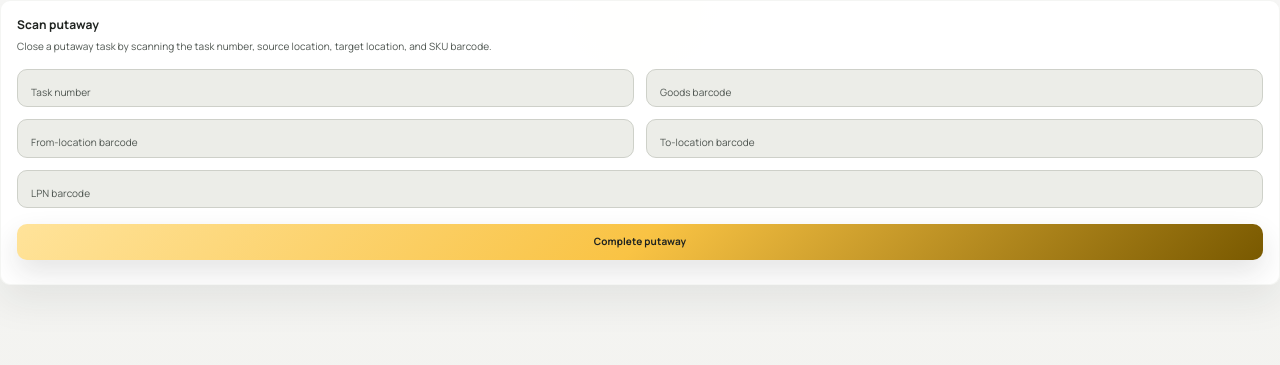
Test: posts scan putaway payloads and shows a success message
Type "PT-3001" into the field labelled "Task number" at point(326, 88), box [17,69,634,108]
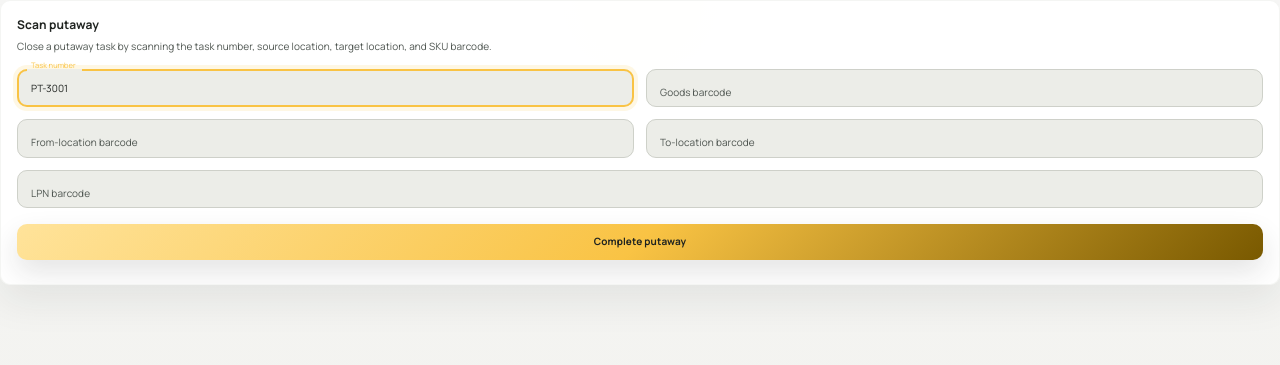
Type "SKU-3001" into the field labelled "Goods barcode" at point(954, 88), box [646,69,1263,108]
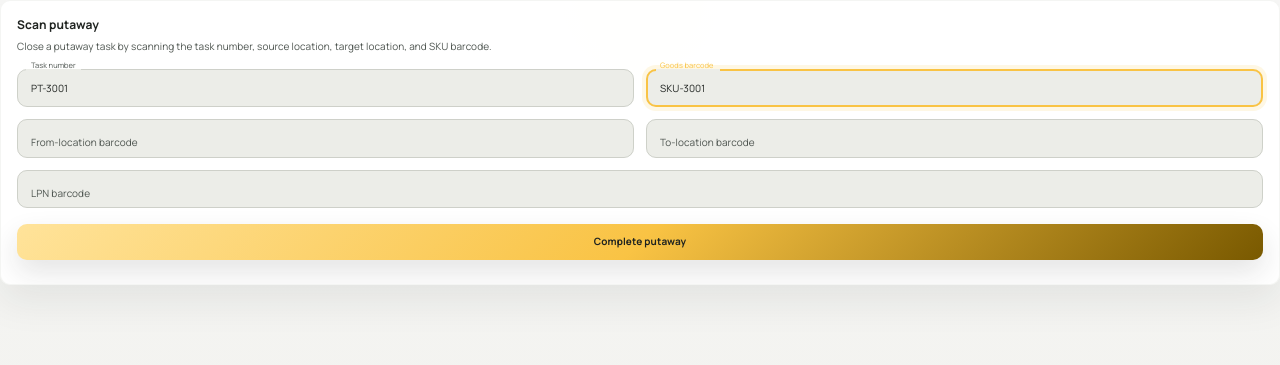
Type "RECV-01" into the field labelled "From-location barcode" at point(326, 139), box [17,120,634,158]
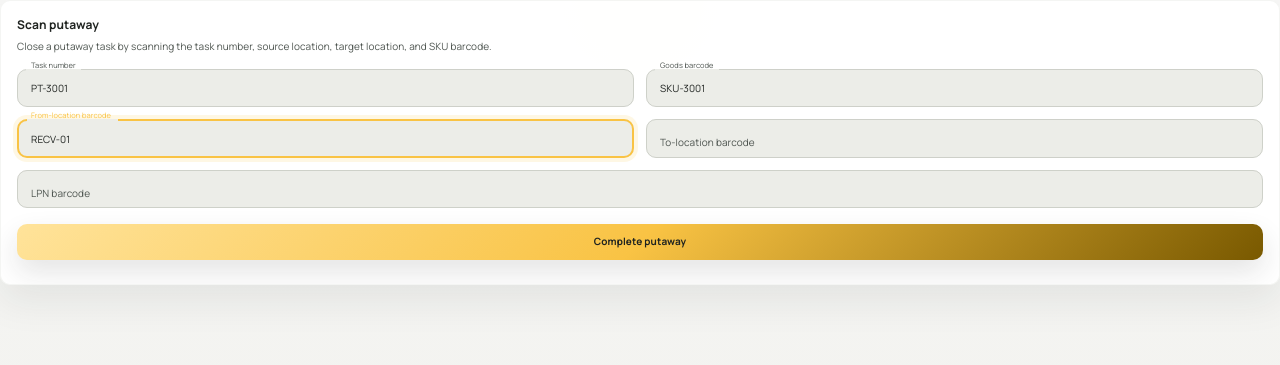
Type "A-01-01" into the field labelled "To-location barcode" at point(954, 139), box [646,120,1263,158]
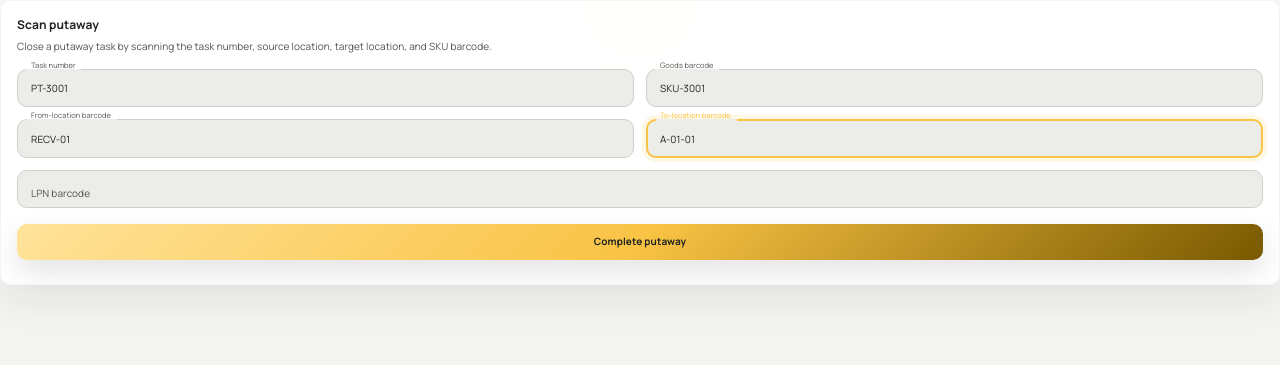
Type "LPN-3001" into the field labelled "LPN barcode" at point(640, 189), box [17,170,1263,208]
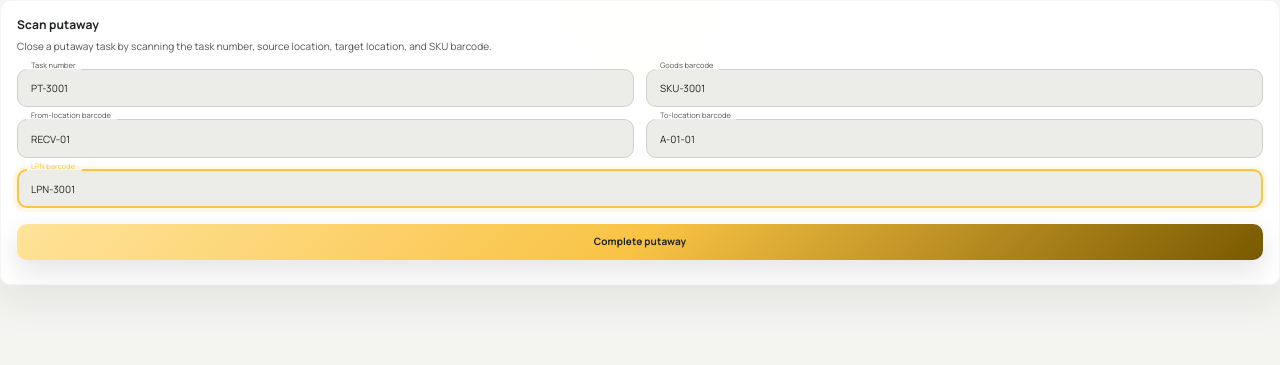
Click the button "Complete putaway" at point(640, 242), box [17,224,1263,260]
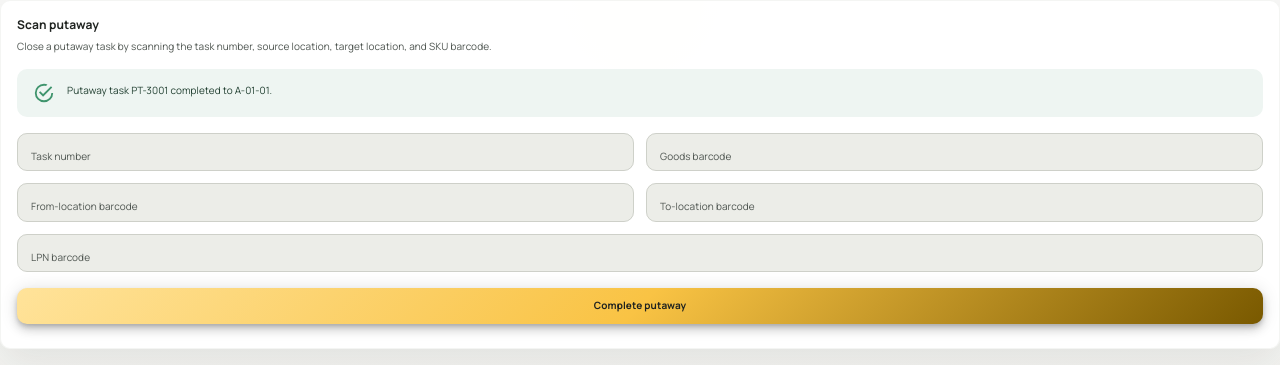
Expected: the text "Putaway task PT-3001 completed to A-01-01." is shown, [67,83,272,97]
